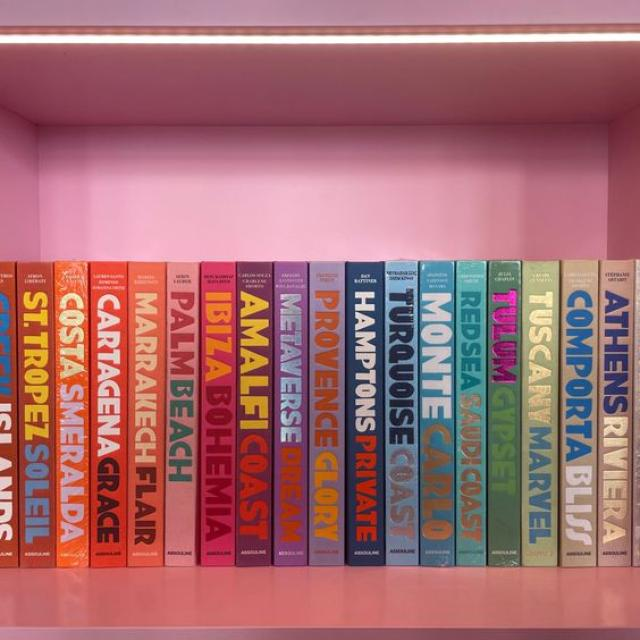book: (559, 260, 598, 566), (127, 262, 166, 566), (345, 262, 384, 565), (521, 261, 558, 566), (17, 263, 54, 567), (90, 262, 127, 566), (235, 263, 272, 565), (163, 262, 199, 566), (598, 261, 634, 565), (199, 263, 235, 565), (272, 263, 308, 565), (54, 262, 89, 567), (419, 261, 454, 565), (309, 263, 344, 565), (487, 262, 521, 566), (384, 262, 418, 565), (454, 263, 487, 565), (0, 262, 17, 566)
